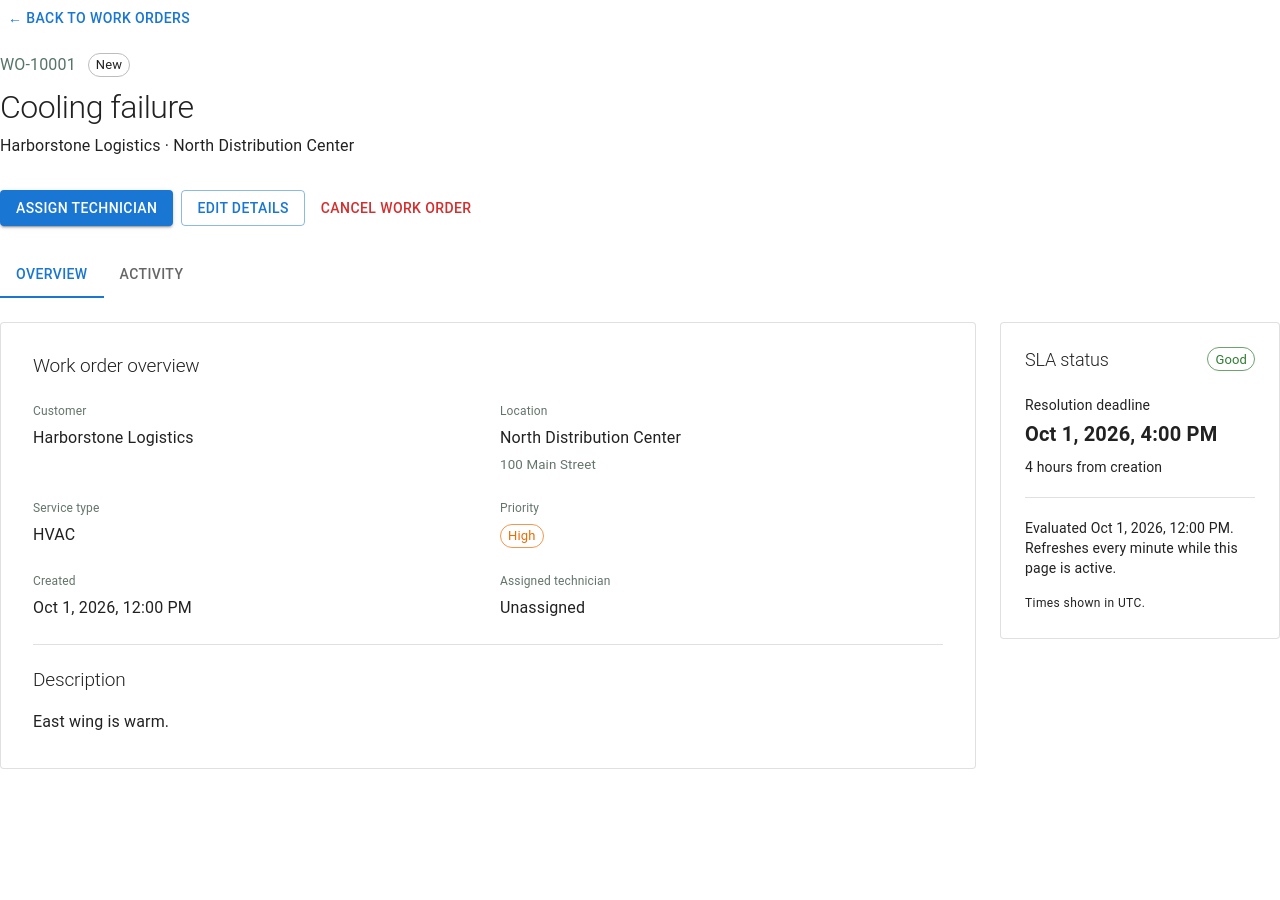
saves the displayed revision and refreshes detail, queue and activity after success
This screenshot has width=1280, height=900.
Expected: the heading "Cooling failure" is shown, [0,88,193,126]
Click the button "Edit details": x=243, y=208 [181,190,305,226]
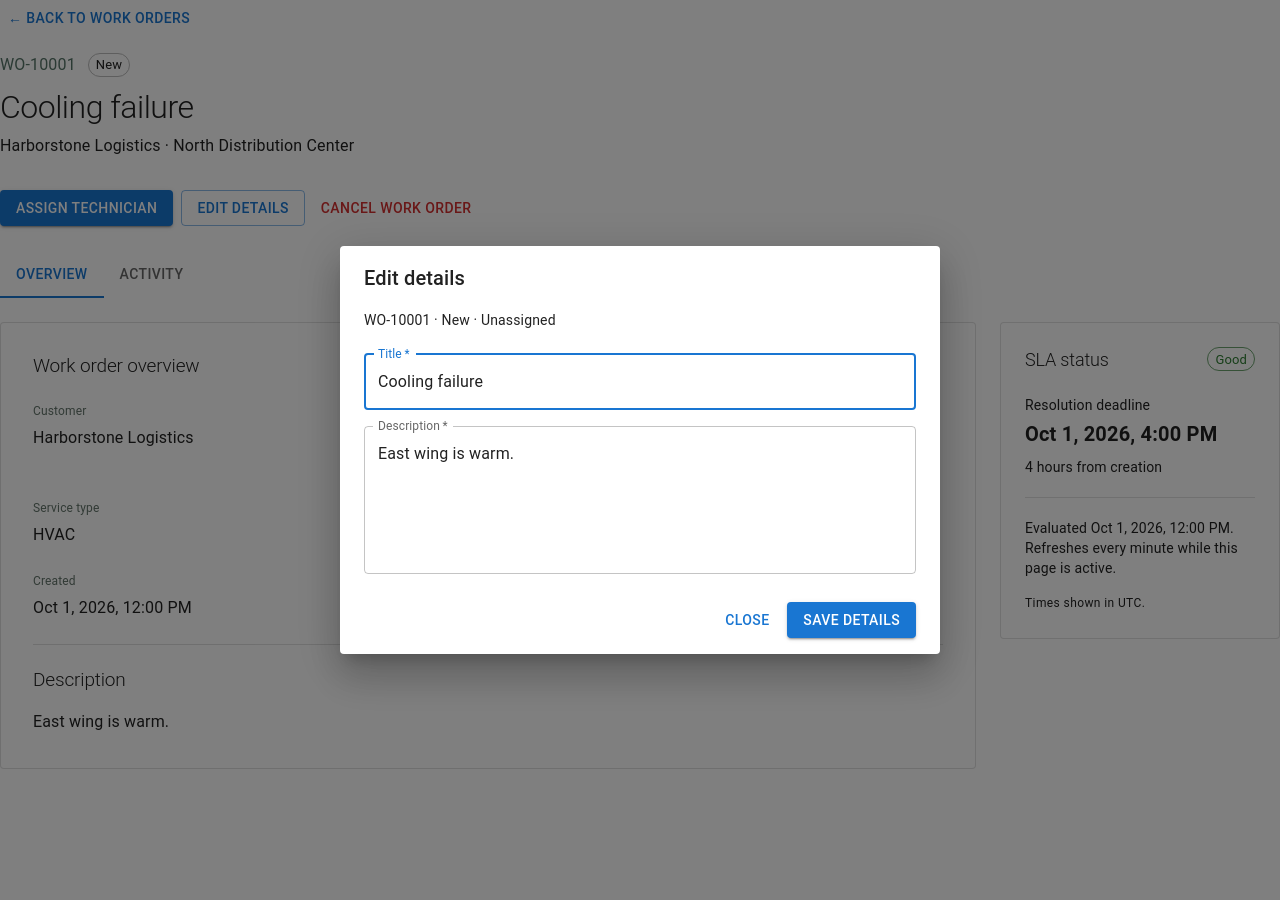
Replace the text in the field labelled "Title" with "Corrected title": x=640, y=382 [364,354,916,410]
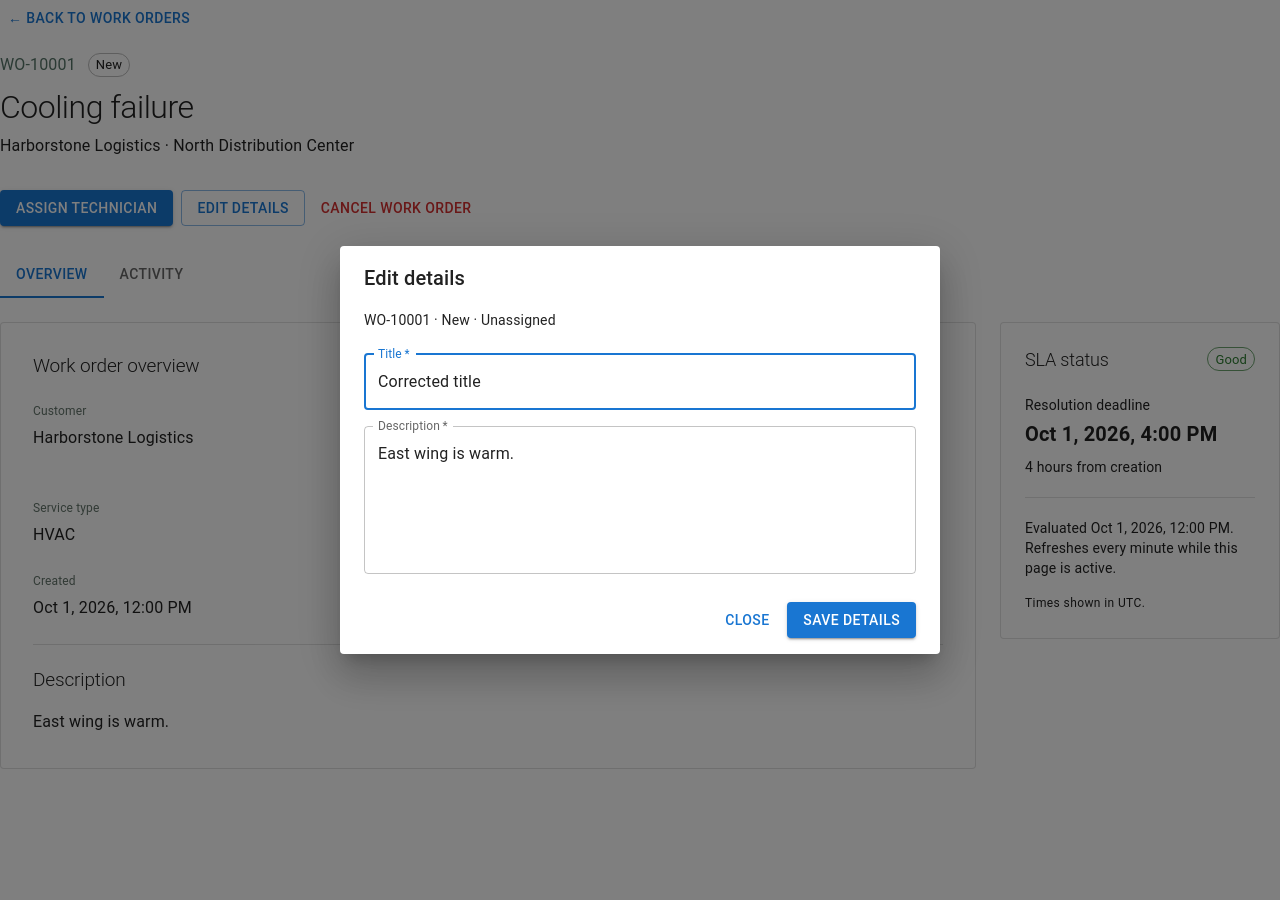
Click the button "Save details": x=852, y=620 [787,602,916,638]
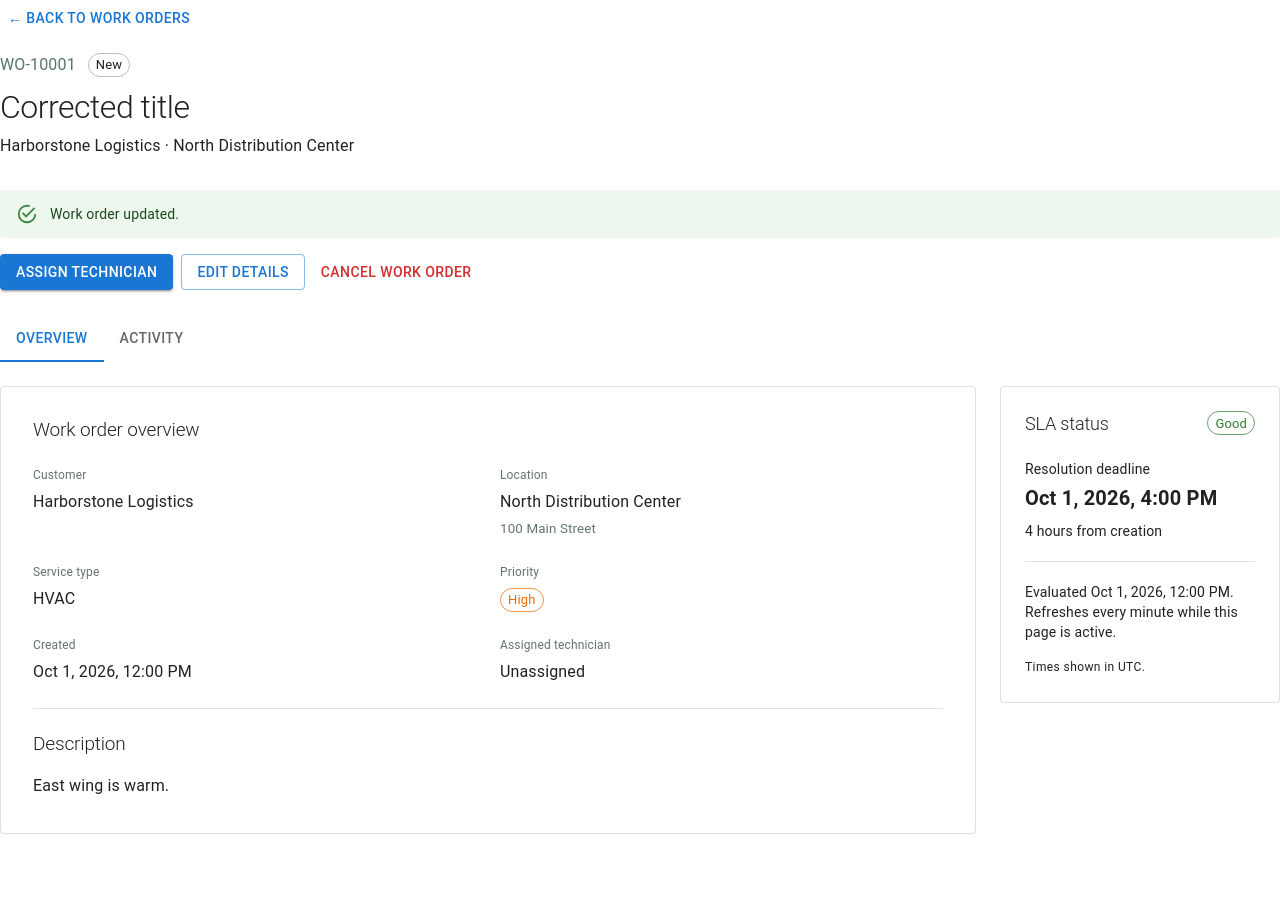
Expected: the heading "Corrected title" is shown, [0,88,190,126]
